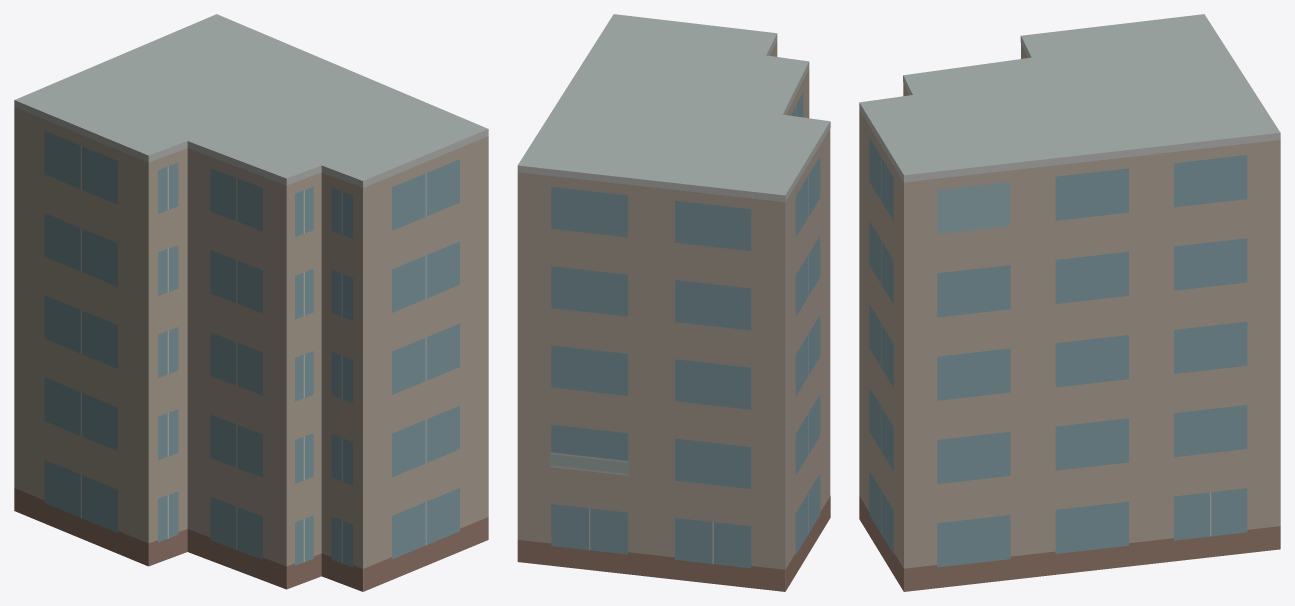
File: survey-upis-32981071.glb
3 views of the same model, side by side, from view 1: azimuth 30°, elevation 25°; view 2: azimuth 150°, elevation 25°; view 3: azimuth 270°, elevation 25° (orthographic). The views are drawn at different scales.
Visible parts, largest first — view 1: survey-upis-32981071.tmp; view 2: survey-upis-32981071.tmp; view 3: survey-upis-32981071.tmp.
Boxes of the visible parts, bbox=[...] form: survey-upis-32981071.tmp: bbox=[14, 14, 488, 591]; survey-upis-32981071.tmp: bbox=[517, 14, 830, 591]; survey-upis-32981071.tmp: bbox=[859, 14, 1280, 591].
Size of the model in its own units: 11.89 by 14.3 by 13.12.
